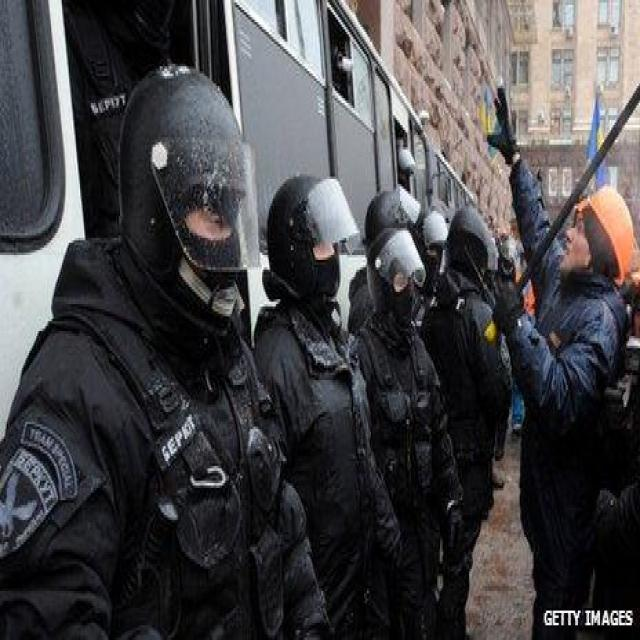police: (0, 37, 272, 640), (256, 151, 396, 640), (355, 193, 462, 640)
